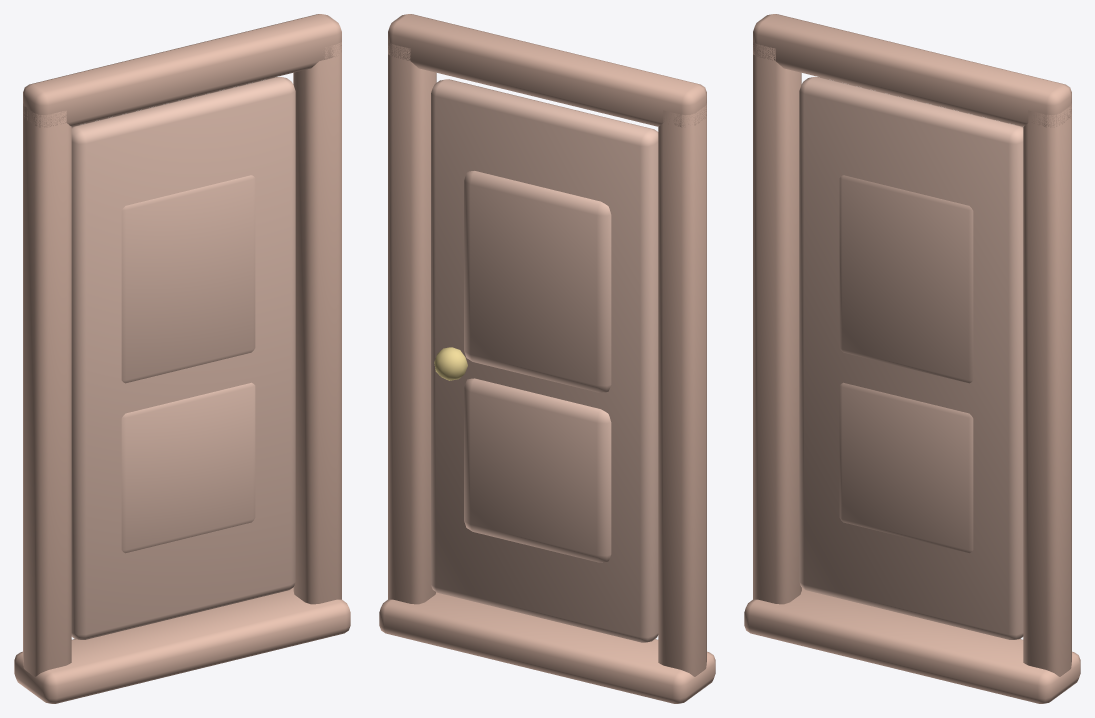
File: door.glb
The picture shows the model from 3 angles, left to right: view 1: azimuth 30°, elevation 25°; view 2: azimuth 150°, elevation 25°; view 3: azimuth 330°, elevation 25°; orthographic projection.
Parts seen in each view (by area): view 1: door; view 2: door; view 3: door.
Boxes of the visible parts, <box> form: door: <box>14,14,350,703</box>; door: <box>379,14,715,703</box>; door: <box>744,14,1080,703</box>.
Size of the model in its own units: 1.02 by 1.92 by 0.23.
